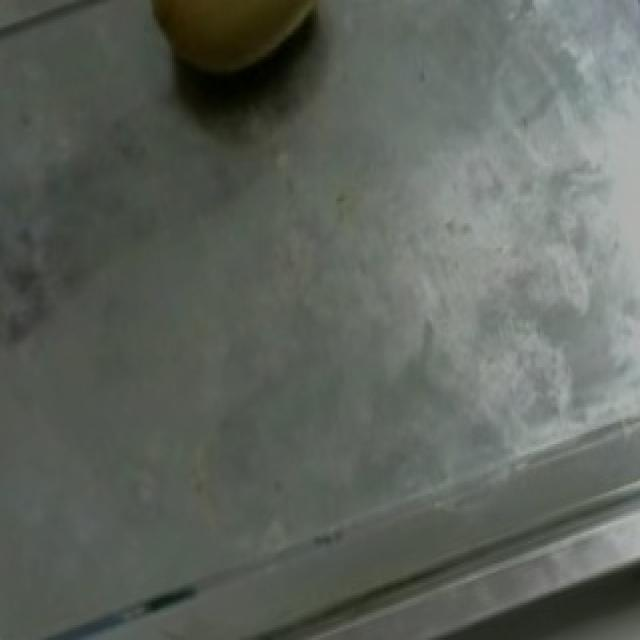Fruit: (112, 0, 358, 124)
